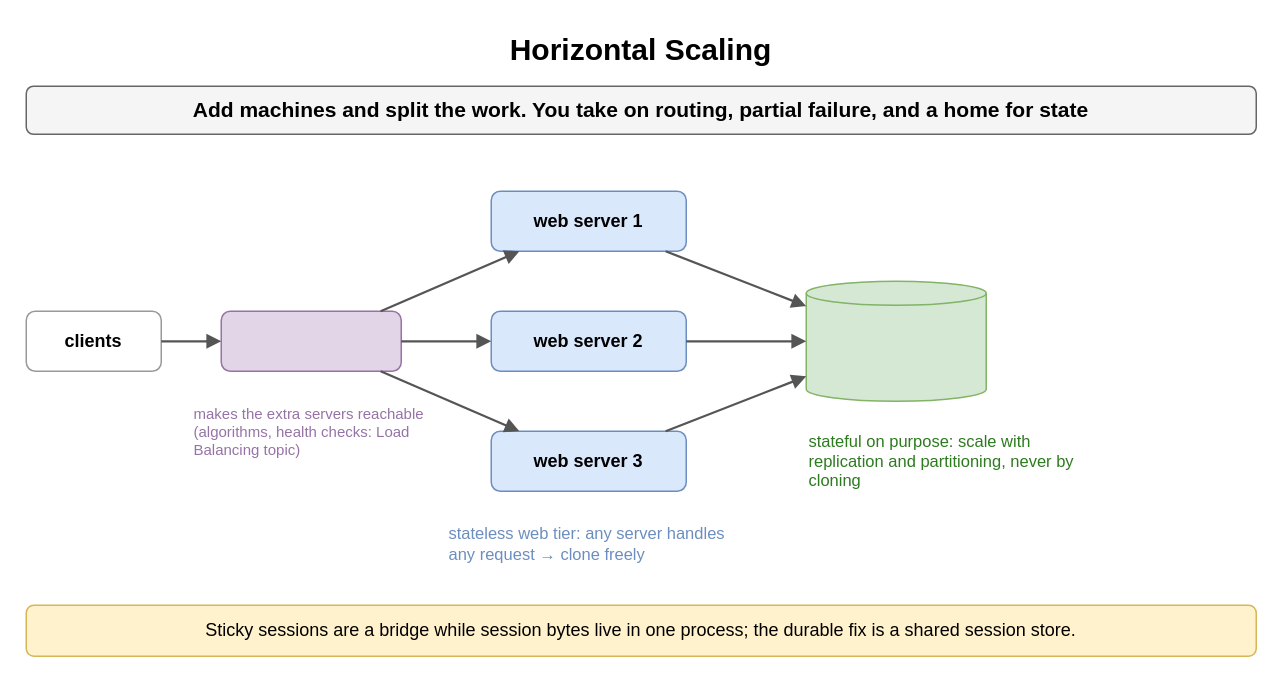
The diagram is 1283 pixels wide and 683 high, and some of its shapes have lost their labels. Here are the shapes that lost their labels. From the top down, the centre of each, then its label:
At point (310, 340): "load balancer".
At point (895, 340): "shared DB".
